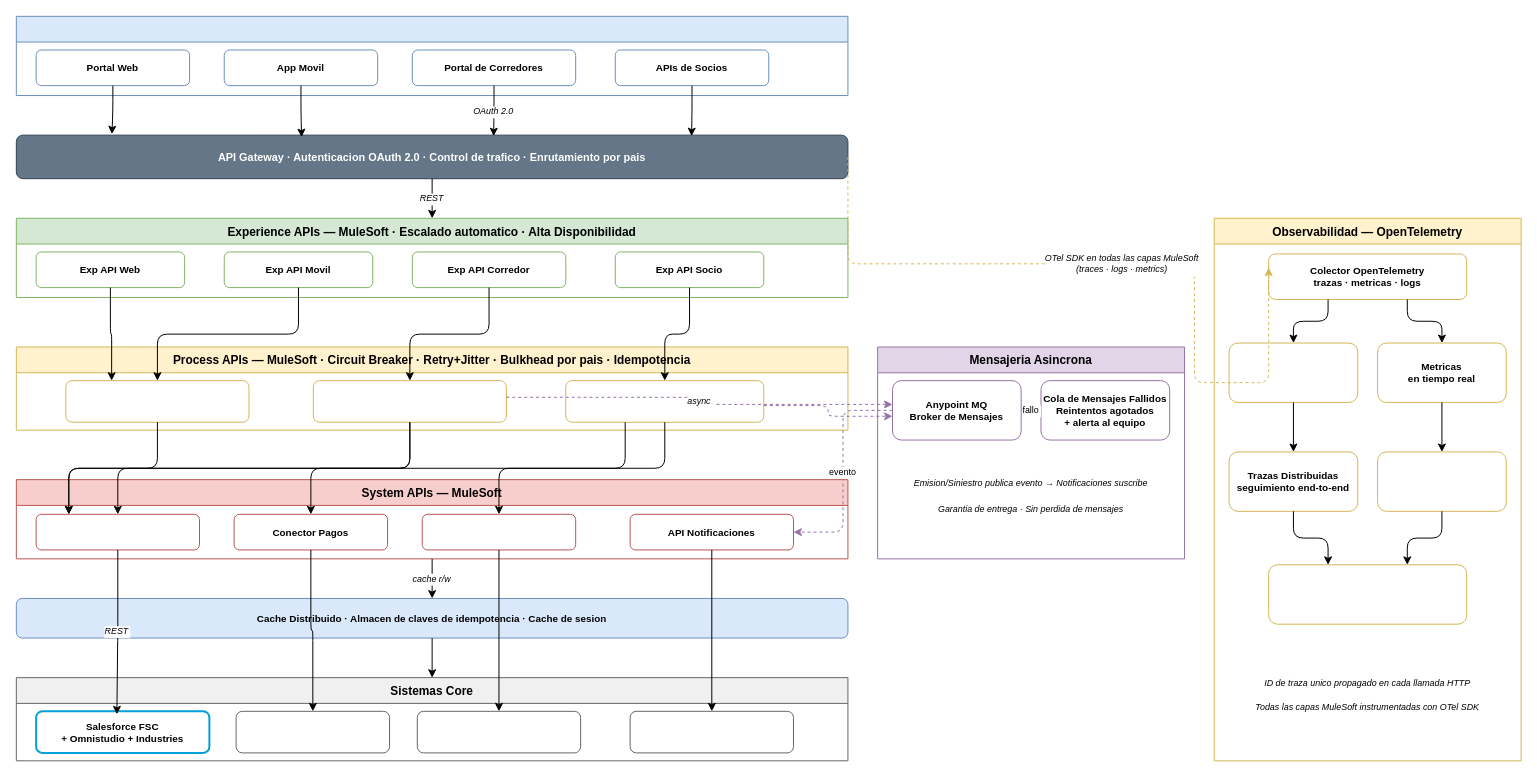
Some shapes in this 1537 by 777 pixel diagram are drawn without their labels. The box of each missing label's shape, as (x1, y1, x2, y2) in pixels:
Alertas Notificacion de incidentes: (1377, 451, 1506, 511)
API Cotizacion sincrona: (65, 380, 249, 422)
API Documentos: (421, 513, 576, 550)
API Emision de Poliza sincrona + asincrona: (312, 380, 506, 422)
API Ingreso de Siniestro asincrona: (565, 380, 764, 422)
API Salesforce FSC: (35, 513, 199, 550)
Canales Digitales · CO | CL | VE | PE: (15, 15, 848, 96)
Dashboard Ejecutivo disponibilidad por pais: (1268, 564, 1467, 624)
Logging Centralizado JSON estructurado: (1228, 342, 1358, 402)
Notificaciones Email / SMS / Push: (629, 710, 793, 753)
Pasarela de Pagos: (235, 710, 390, 753)
Servicio de Documentos: (416, 710, 581, 753)
